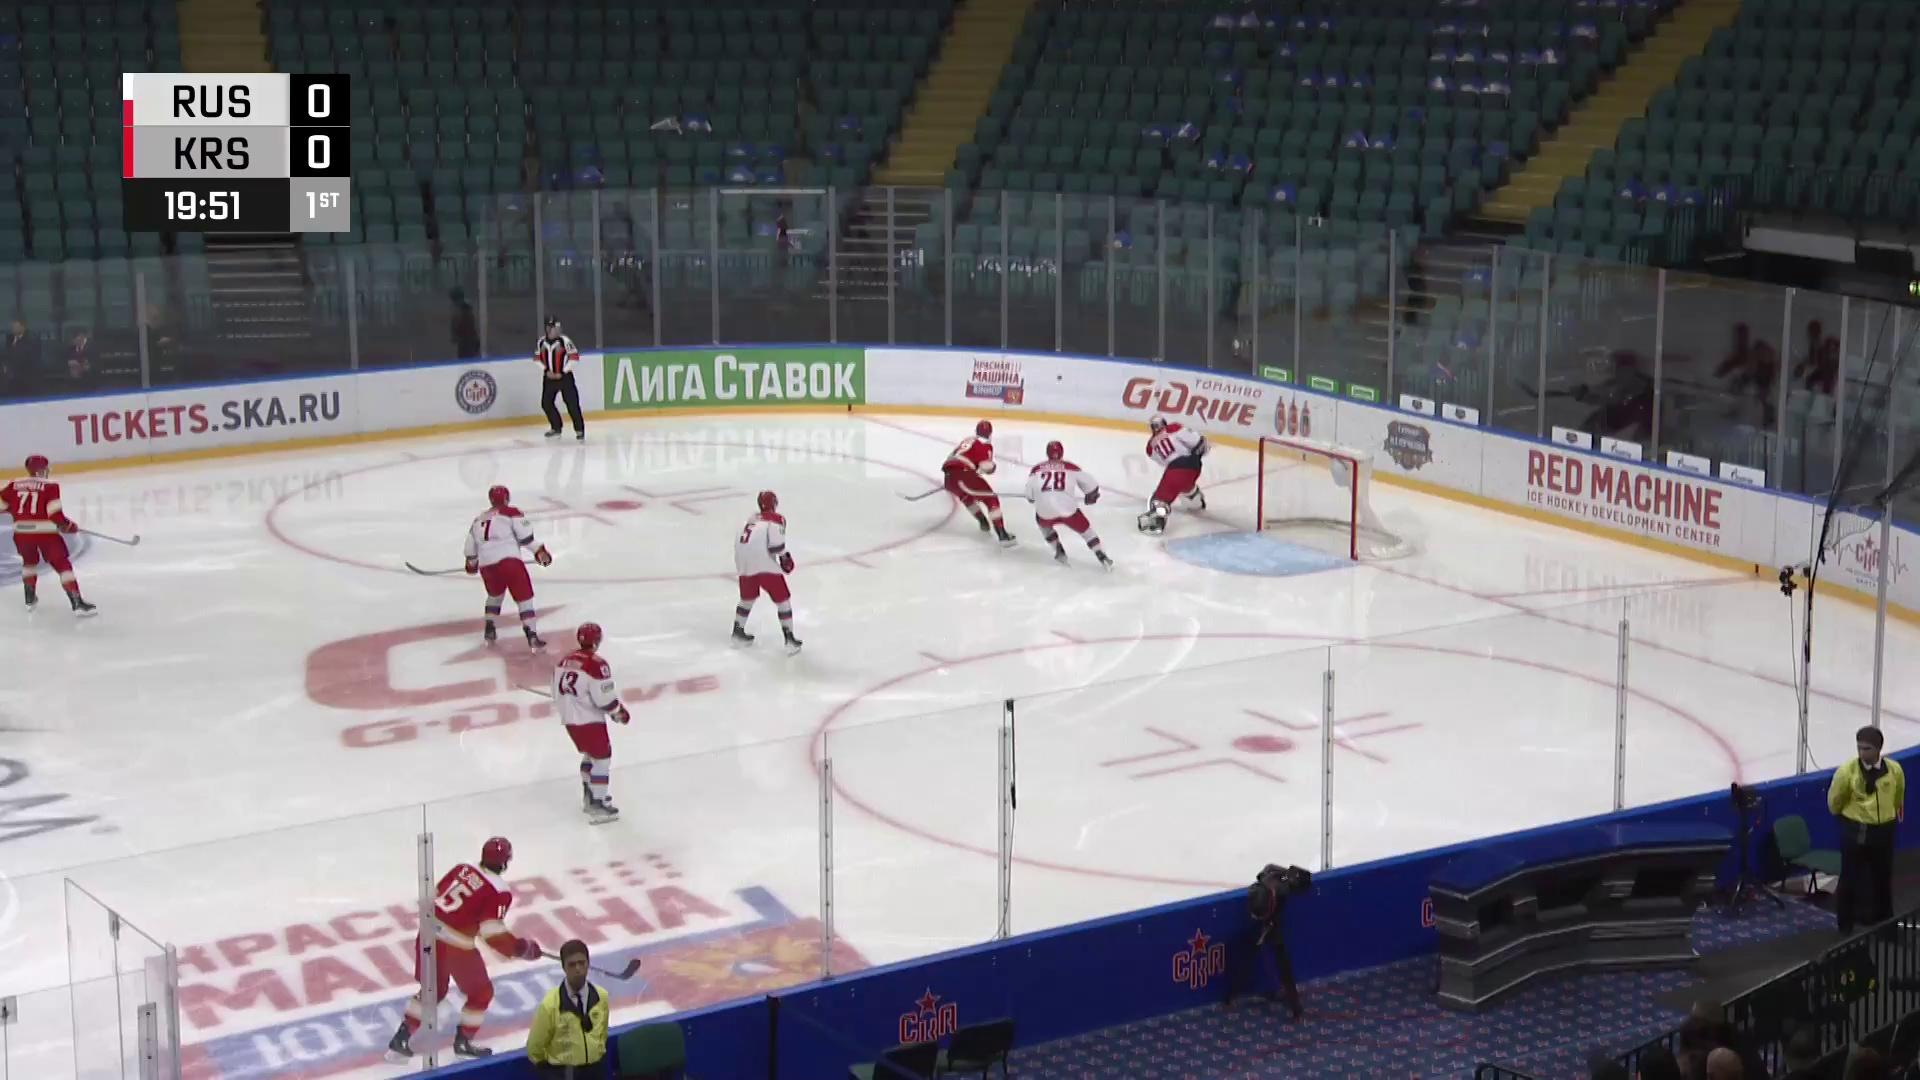ball: (1055, 373, 1063, 382)
